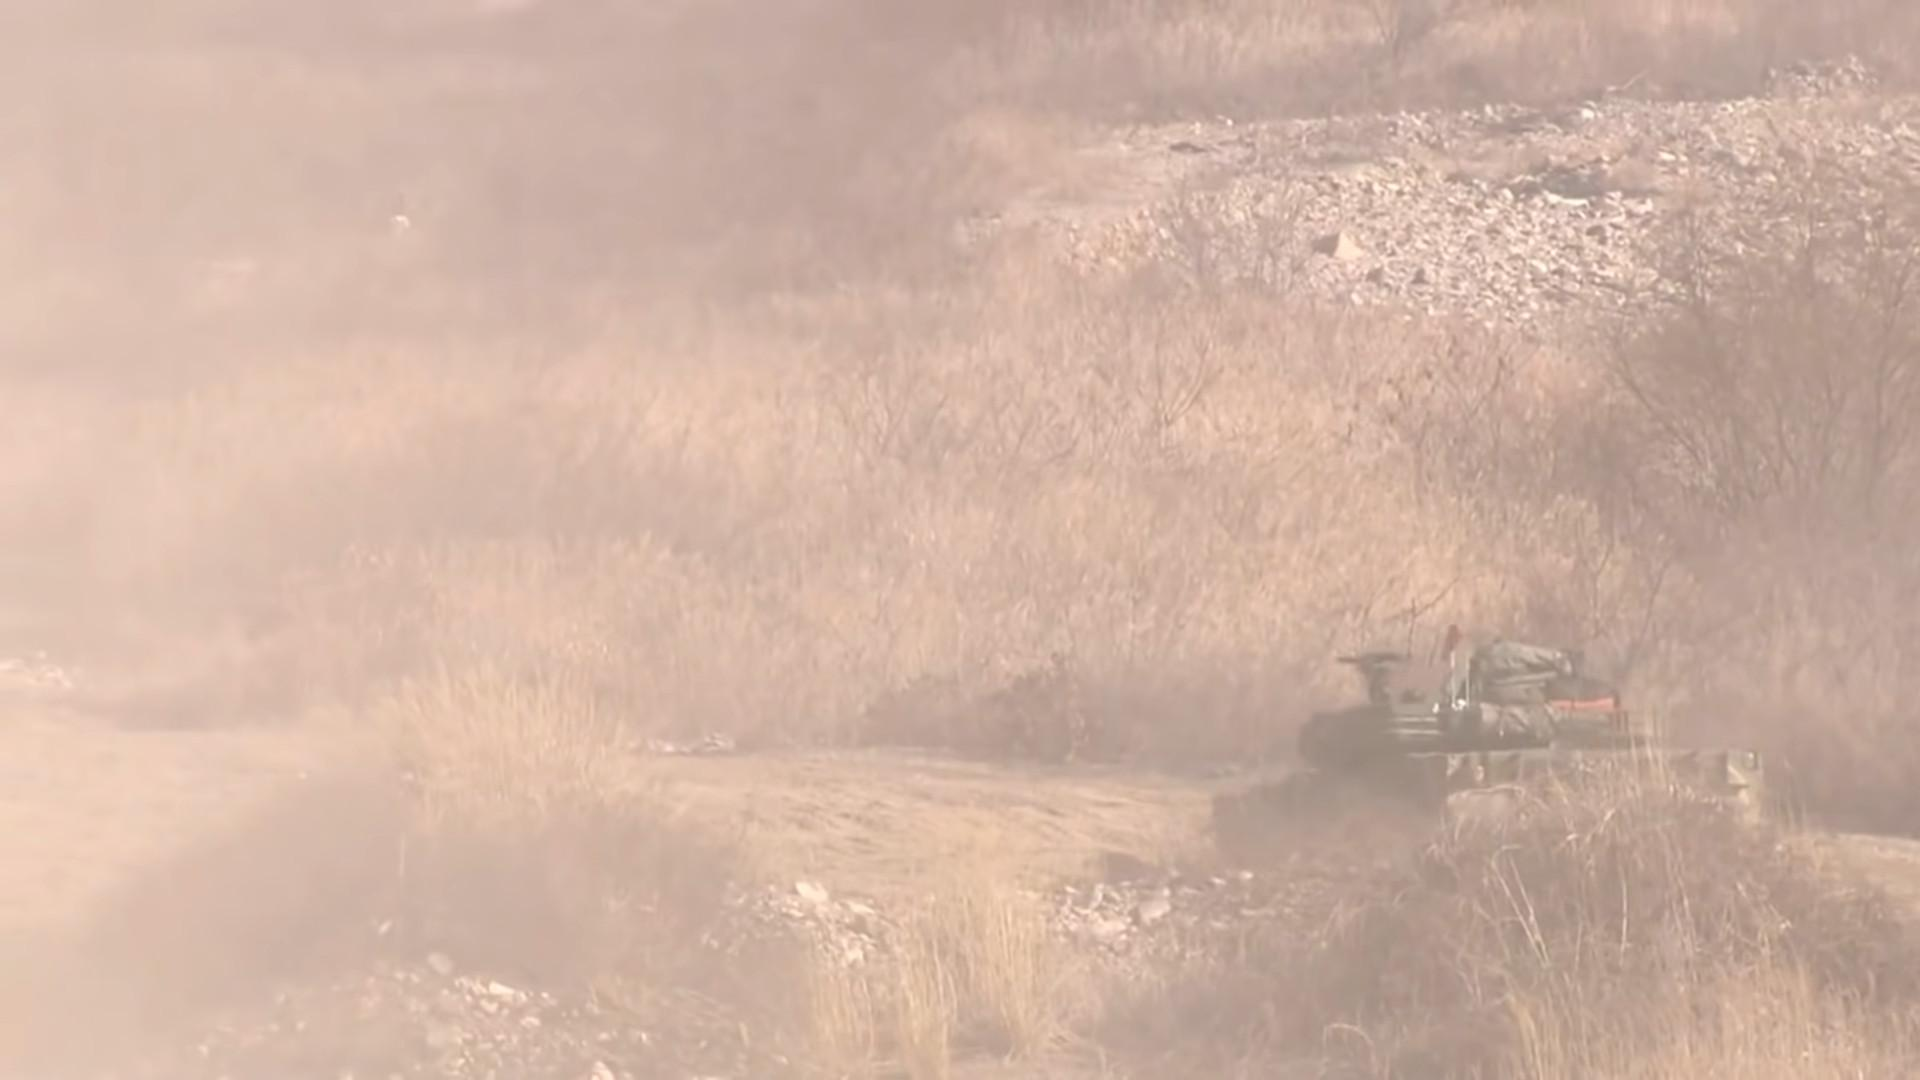tank: (1210, 634, 1763, 870)
